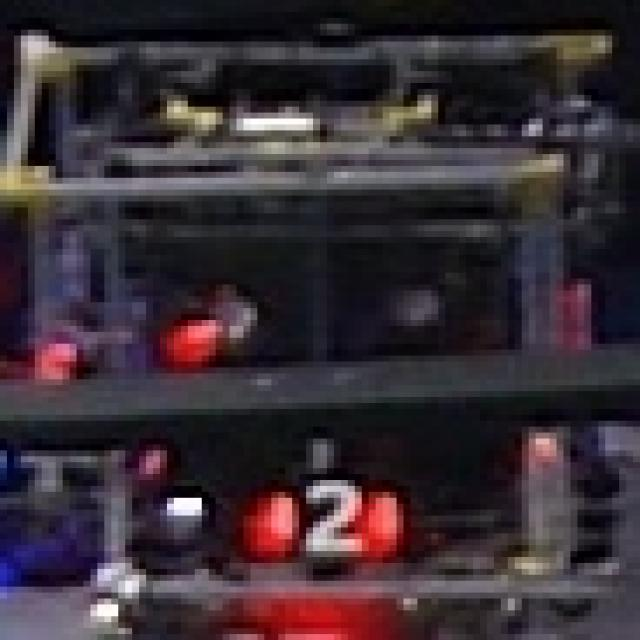R2: (257, 468, 403, 563)
